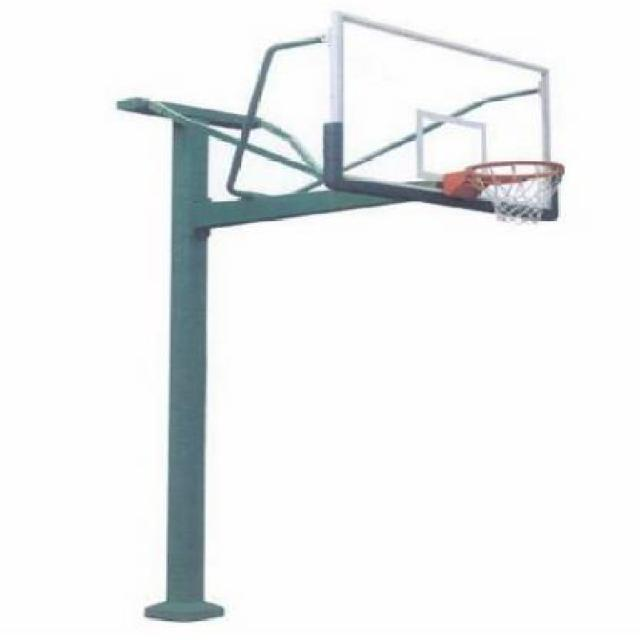rim: (469, 158, 566, 226)
